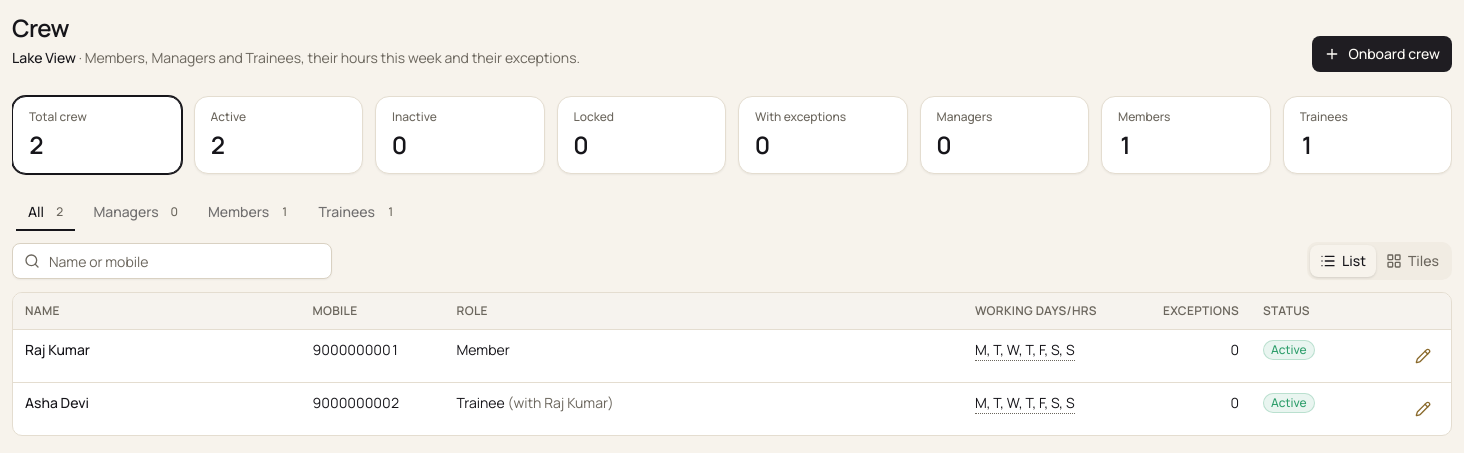
Test case: crew list › filters by role and search, and asks the API for the chosen site
Expected: the link "Raj Kumar" is shown, [25,340,90,358]
Expected: the link "Asha Devi" is shown, [25,392,89,412]
Click the tab "Trainees 1". click: click(356, 212)
box: [306,198,407,226]
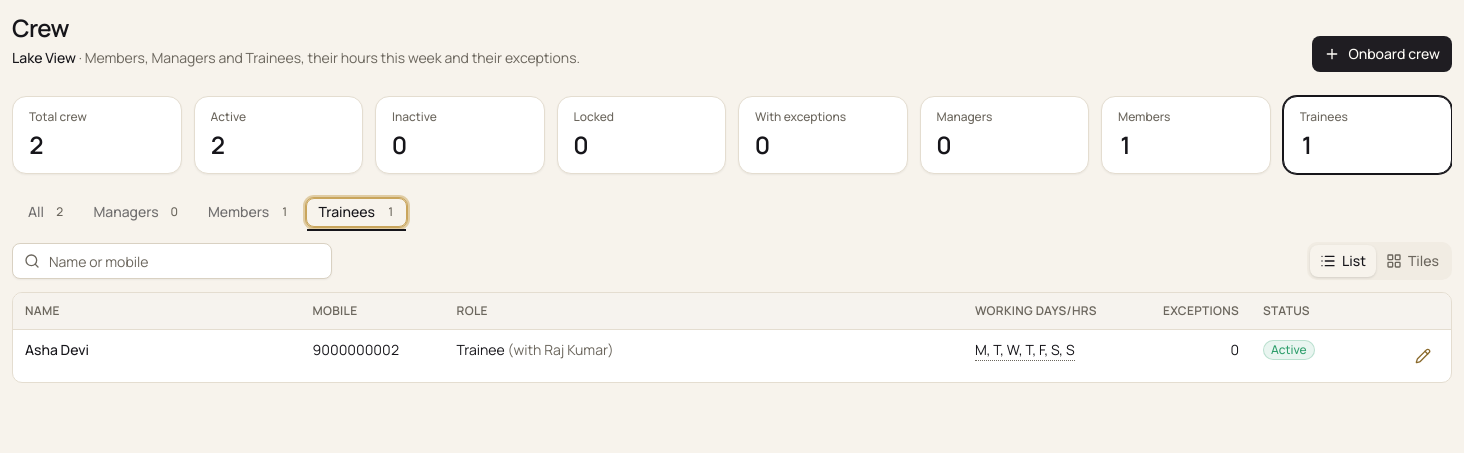
Click the tab "All 2". click: click(46, 212)
box: [15,198,76,226]
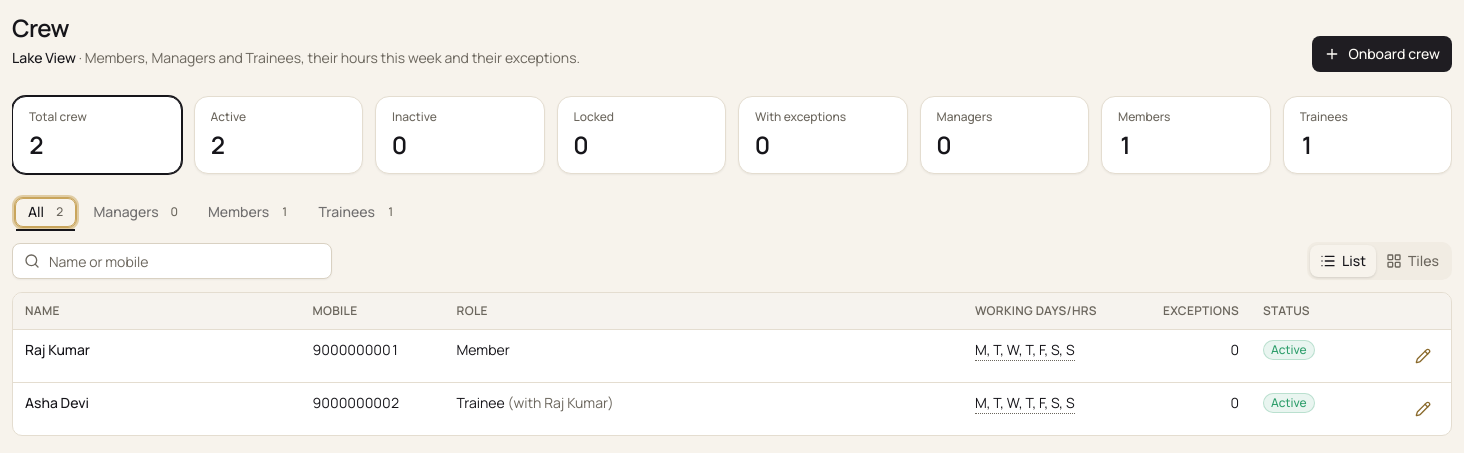
Type "9000000001" into the field named "Search". click: (172, 261)
box: [12,243,332,279]
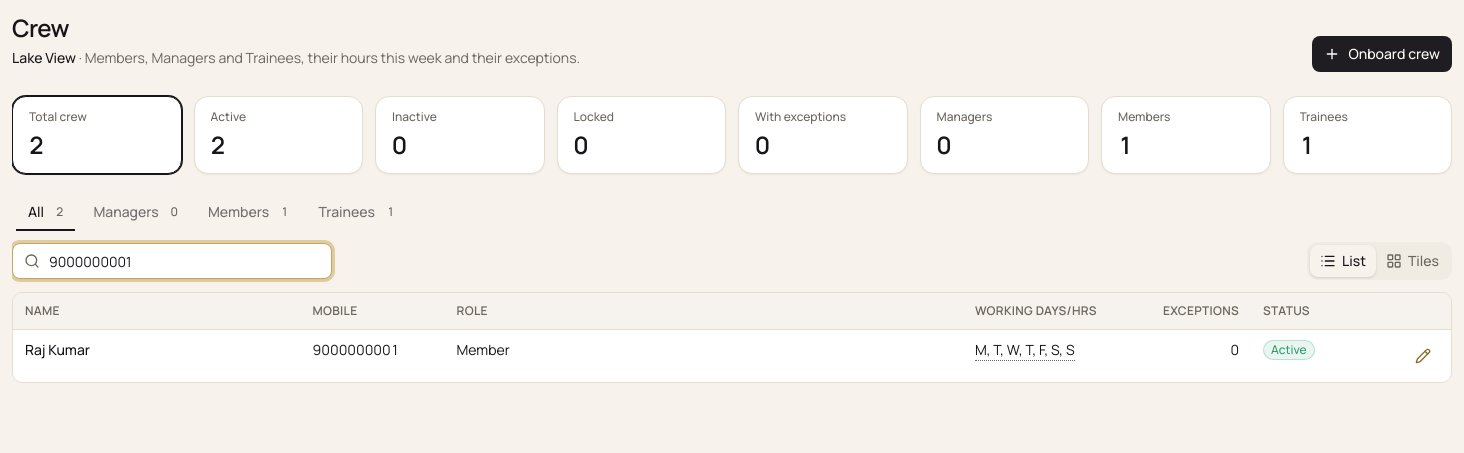
Expected: the link "Asha Devi" is gone
